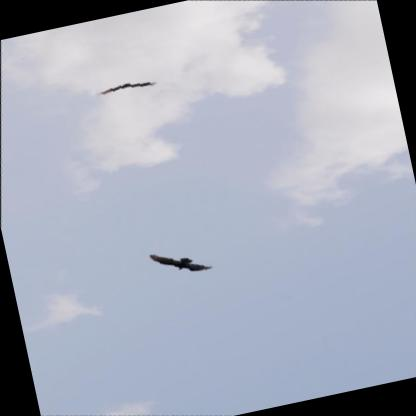bird: (90, 64, 162, 114), (143, 241, 218, 285)
